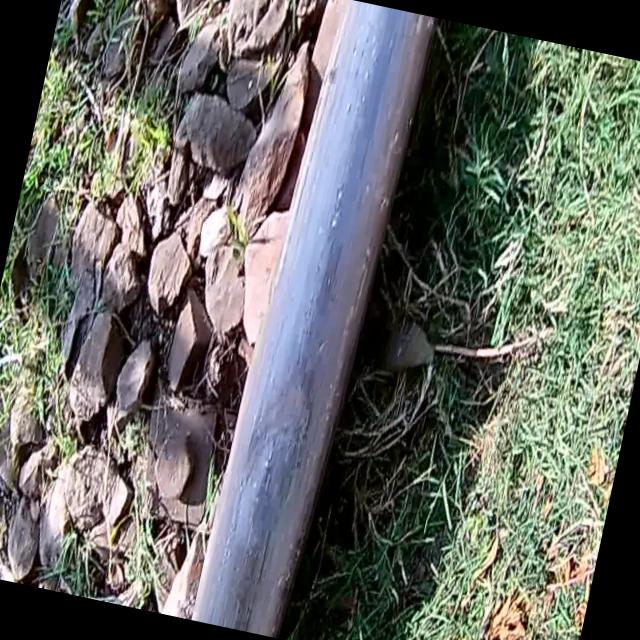Squats: (192, 327, 366, 584)
